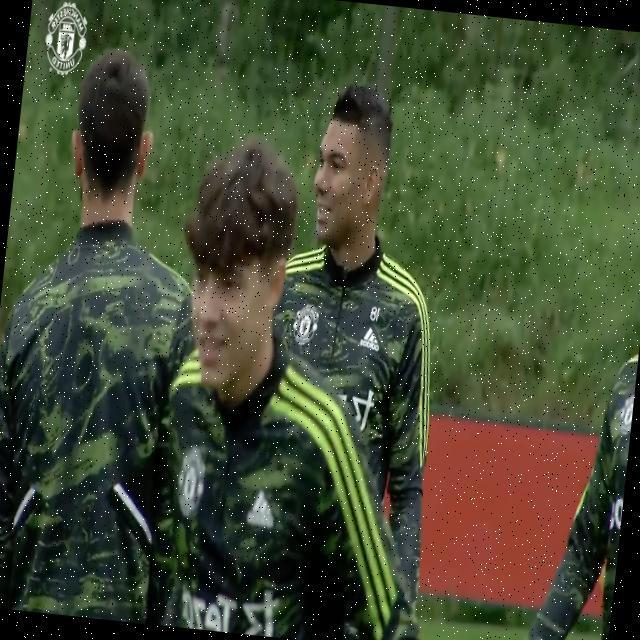Adidas: (244, 488, 277, 531), (358, 325, 382, 353)
